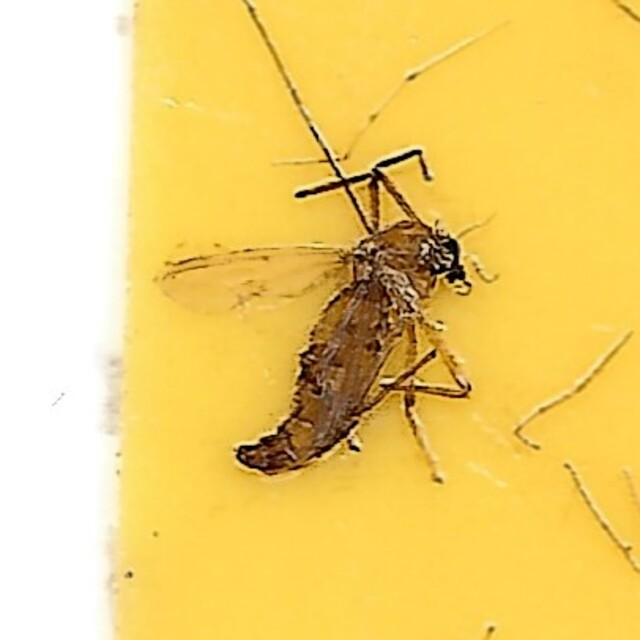Nematocera: (158, 153, 482, 487)
